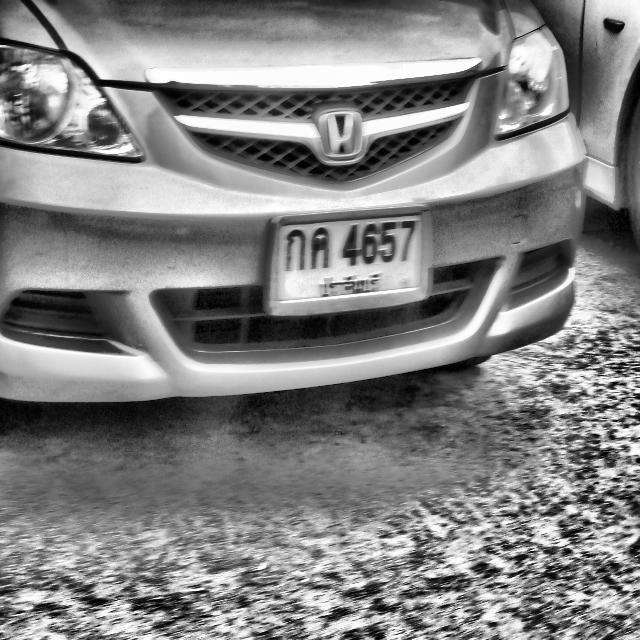license-plate: (262, 211, 431, 310)
